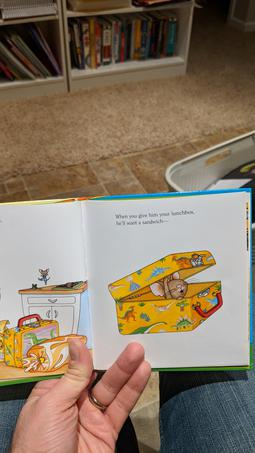text block: (109, 205, 197, 228)
